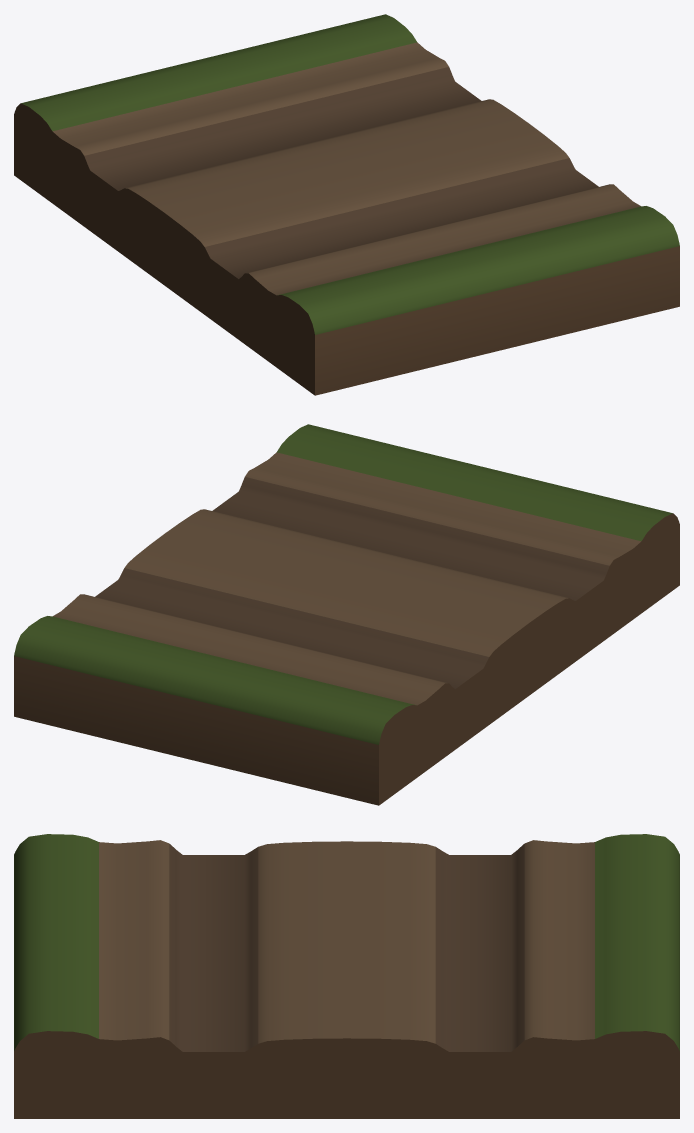
3 renders of one model, top to bottom at view 1: azimuth 30°, elevation 25°; view 2: azimuth 150°, elevation 25°; view 3: azimuth 270°, elevation 25°, orthographic. The views are drawn at different scales.
Visible parts, largest first — view 1: r3o; view 2: r3o; view 3: r3o.
Part boxes in pixels (bbox=[...]): r3o: bbox=[14, 14, 679, 395]; r3o: bbox=[14, 424, 679, 805]; r3o: bbox=[14, 834, 679, 1118].
Bounding box in the file's own units: 6.3 × 1.31 × 9.
